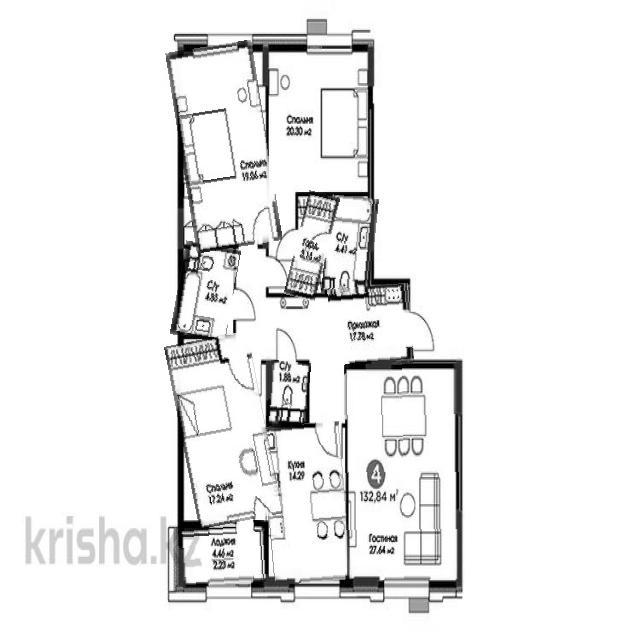balcony: (179, 521, 267, 586)
bathroom: (174, 242, 238, 341), (324, 195, 376, 296), (268, 361, 310, 427)
hallway: (328, 285, 413, 368)
kitchen: (264, 422, 350, 583)
living_room: (345, 364, 461, 580), (172, 42, 275, 251), (173, 334, 274, 526), (269, 47, 372, 194)
other: (290, 191, 334, 300)
